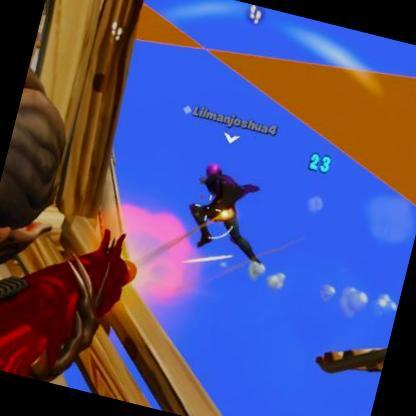person: (181, 158, 285, 274)
